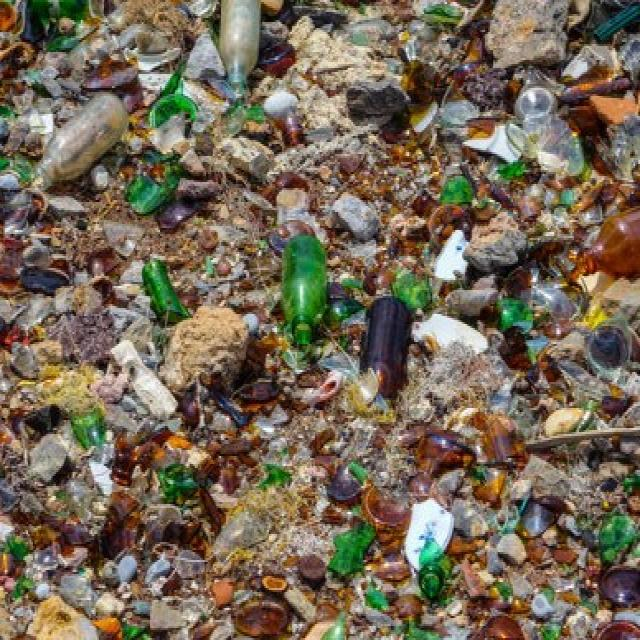electronic: (273, 221, 413, 408)
